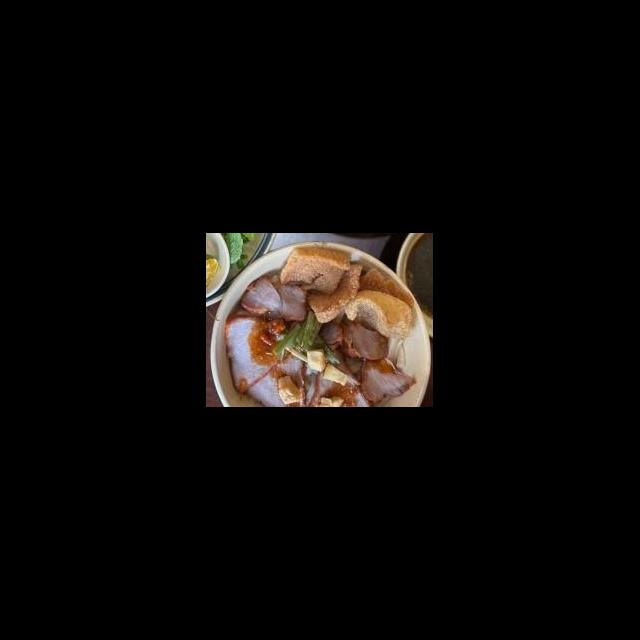banh da: (276, 244, 354, 297), (304, 260, 366, 325), (342, 287, 414, 340), (348, 266, 418, 315)
mi: (384, 334, 408, 370)
mi quang: (211, 251, 434, 407)
thit heo: (222, 312, 294, 397), (243, 341, 310, 407), (306, 342, 374, 407), (238, 274, 310, 322), (356, 352, 418, 405), (338, 311, 390, 363), (316, 320, 346, 351)
